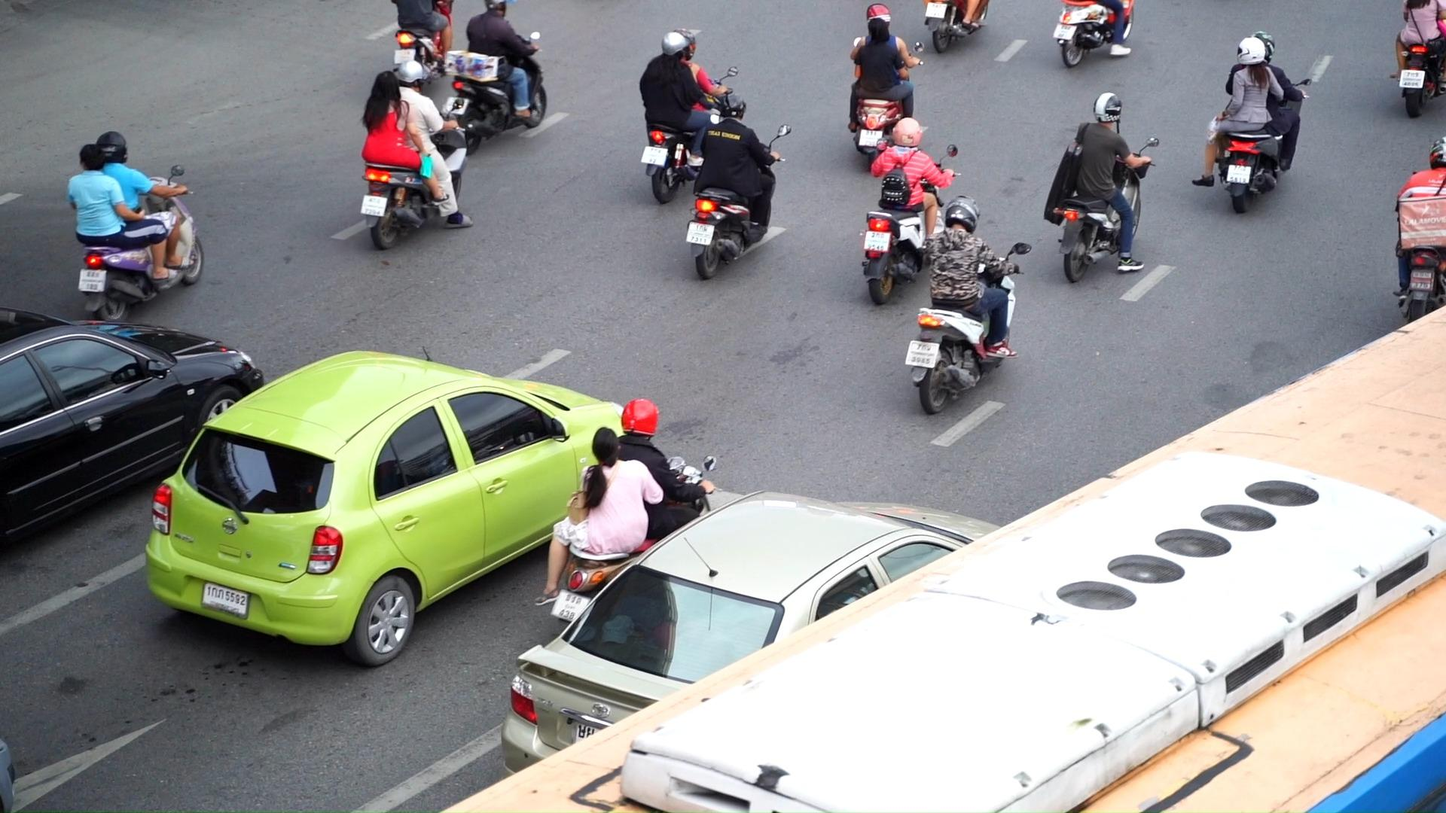driver: (535, 398, 723, 624), (905, 194, 1031, 415), (68, 131, 204, 321), (1192, 31, 1312, 215), (1044, 92, 1159, 284), (360, 59, 474, 250), (686, 94, 791, 279), (859, 117, 962, 305), (641, 27, 739, 204), (440, 0, 547, 156), (848, 3, 925, 173), (1393, 135, 1446, 324), (1389, 1, 1446, 117), (1053, 0, 1135, 68)
helmet: (621, 397, 658, 437), (944, 195, 981, 234), (397, 59, 429, 92), (96, 131, 128, 163), (892, 117, 923, 148), (1093, 92, 1122, 123), (661, 32, 691, 61), (1237, 37, 1265, 66), (671, 28, 696, 60), (1250, 32, 1275, 64), (720, 94, 747, 120), (866, 3, 891, 29), (1430, 135, 1446, 169)
no-helmet: (592, 426, 621, 468), (372, 71, 401, 99), (79, 144, 105, 171), (867, 18, 889, 42)
